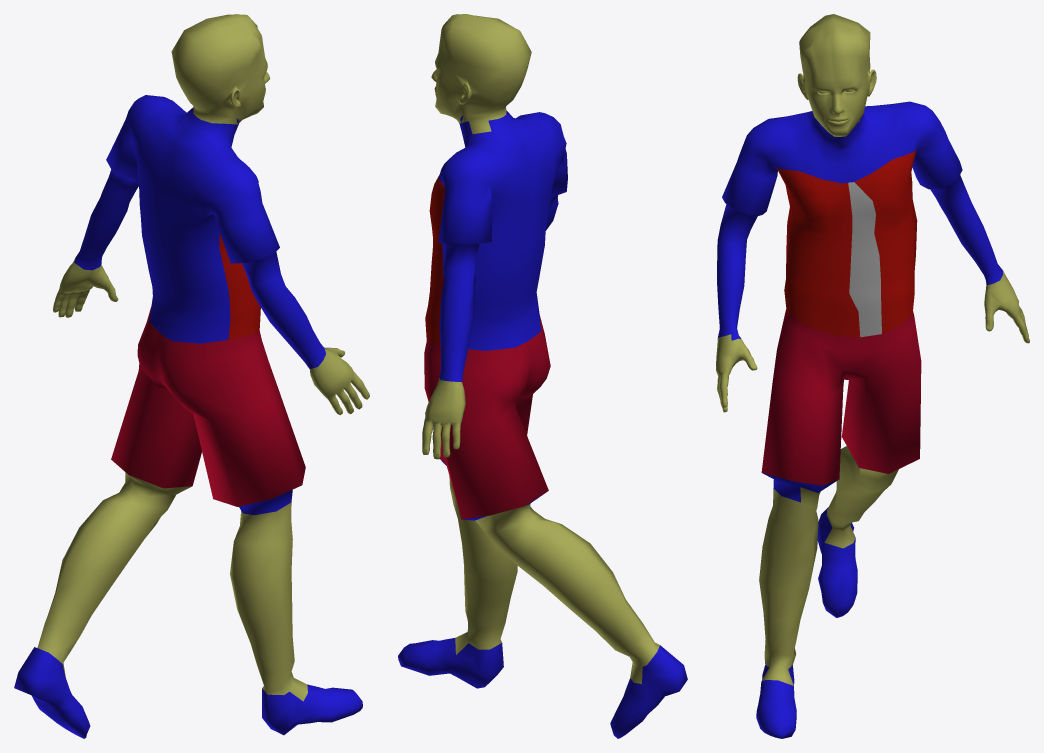
File: player_000005.obj
3 renders of one model, left to right at view 1: azimuth 30°, elevation 25°; view 2: azimuth 150°, elevation 25°; view 3: azimuth 270°, elevation 25°, orthographic. The views are drawn at different scales.
Parts seen in each view (by area): view 1: soccerplayer_mesh; view 2: soccerplayer_mesh; view 3: soccerplayer_mesh.
Part boxes in pixels (x1,y1,x2,y2): soccerplayer_mesh: [14, 14, 369, 738]; soccerplayer_mesh: [398, 14, 687, 738]; soccerplayer_mesh: [716, 14, 1029, 738].
Bounding box in the file's own units: 2.52 × 5.34 × 2.27.
